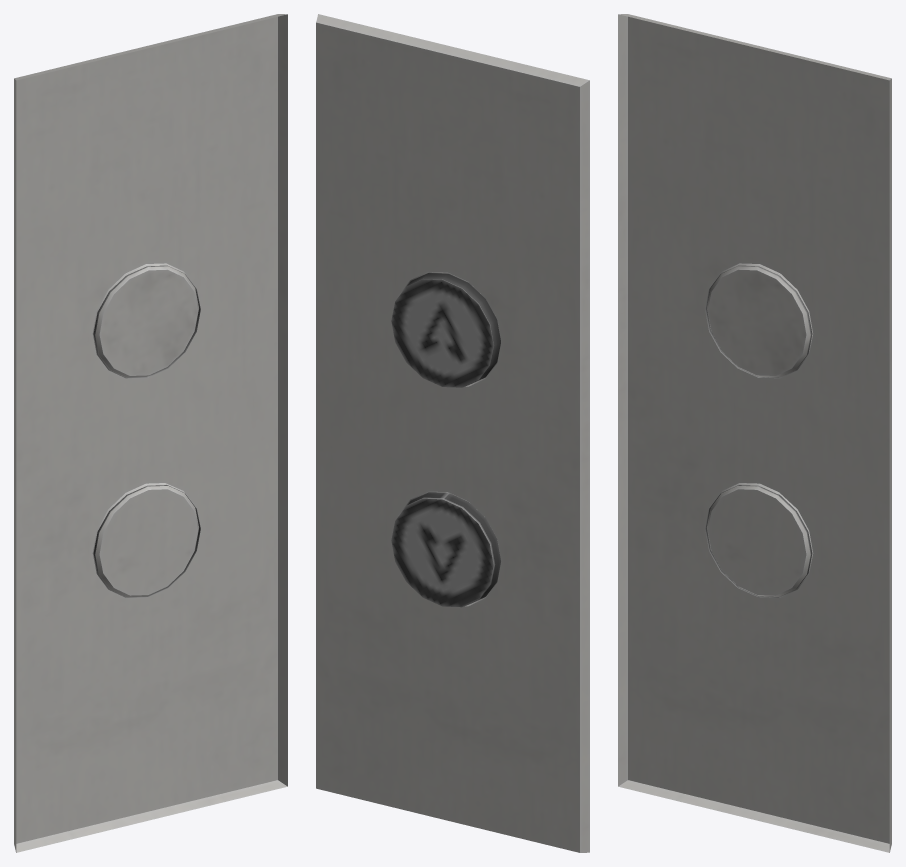
Rendered from SM_Elevator_Call_Panel_01.fbx.
3 renders of one model, left to right at view 1: azimuth 30°, elevation 25°; view 2: azimuth 150°, elevation 25°; view 3: azimuth 330°, elevation 25°, orthographic.
Visible parts, largest first — view 1: SM_Elevator_Call_Panel_01; view 2: SM_Elevator_Call_Panel_01; view 3: SM_Elevator_Call_Panel_01.
Boxes of the visible parts, x1,y1,x2,y2 form: SM_Elevator_Call_Panel_01: (14, 14, 287, 852); SM_Elevator_Call_Panel_01: (316, 14, 589, 852); SM_Elevator_Call_Panel_01: (618, 14, 891, 852).
Size of the model in its own units: 9.52 by 0.6994 by 25.87.
